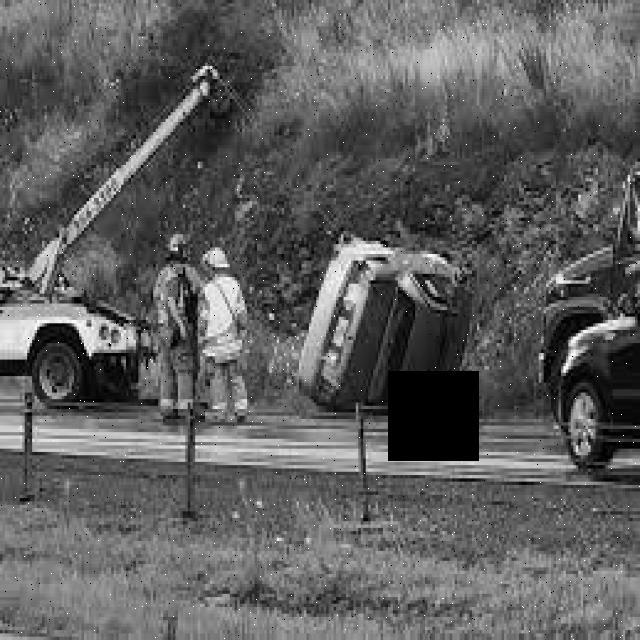severe: (286, 231, 484, 419)
